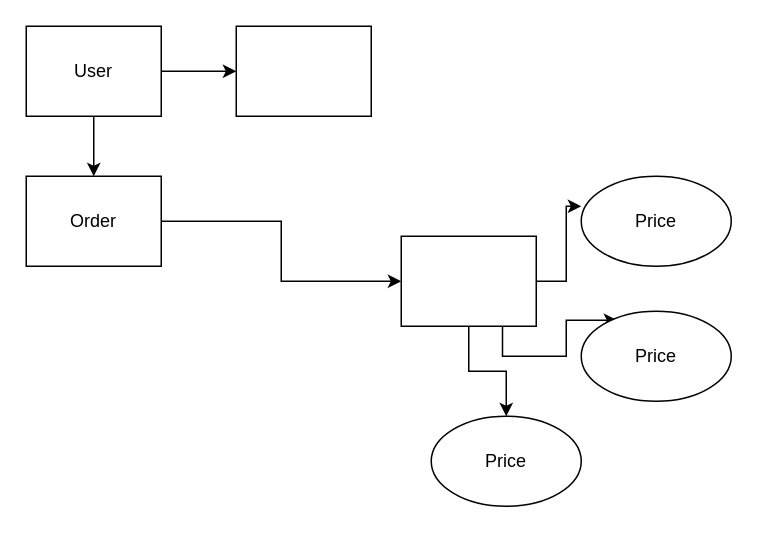
Some shapes in this 758 by 533 pixel diagram are drawn without their labels. Each missing label, with the centre of its shape:
"Item" goes at point (468, 280).
"Sign up" goes at point (303, 70).
